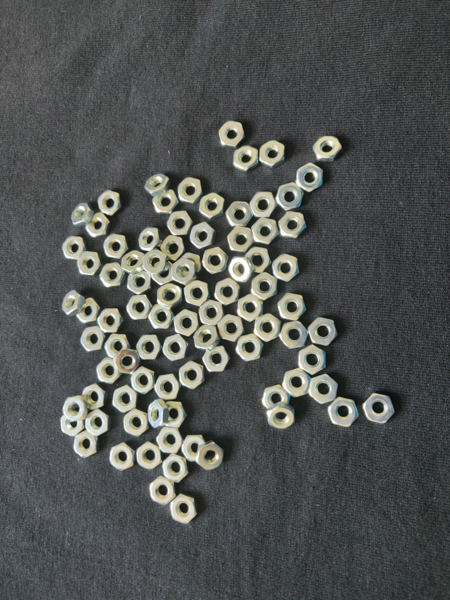nut: (363, 392, 395, 424), (259, 139, 289, 172), (273, 253, 302, 287), (280, 322, 311, 353), (234, 335, 265, 366), (328, 396, 358, 428), (309, 375, 340, 405), (135, 440, 163, 473), (276, 184, 310, 211), (297, 347, 327, 377), (306, 317, 338, 345), (278, 292, 308, 321), (297, 163, 326, 193), (196, 194, 229, 220), (197, 443, 226, 472), (249, 190, 278, 219), (156, 425, 184, 455), (150, 477, 177, 508), (256, 312, 282, 344), (114, 349, 140, 381), (234, 145, 258, 179), (177, 175, 205, 204), (283, 370, 312, 398), (252, 274, 280, 303), (203, 345, 232, 373), (180, 362, 207, 392), (312, 136, 344, 161), (108, 443, 135, 472), (101, 232, 130, 259), (279, 211, 308, 238), (131, 369, 158, 398), (226, 200, 253, 229), (162, 335, 189, 363), (97, 309, 125, 336), (167, 209, 195, 236), (171, 496, 197, 525), (173, 310, 199, 339), (212, 279, 241, 305), (218, 314, 243, 344), (165, 453, 187, 487), (86, 409, 110, 440), (218, 120, 245, 147), (155, 374, 182, 401), (177, 252, 204, 279), (229, 226, 255, 254), (189, 222, 215, 250), (126, 295, 152, 323), (123, 411, 148, 440), (203, 246, 228, 275), (267, 404, 295, 429), (151, 261, 176, 289), (253, 216, 277, 245), (245, 246, 271, 272), (184, 281, 210, 307), (73, 432, 98, 459), (96, 359, 123, 384), (73, 299, 100, 324), (103, 235, 130, 260), (181, 436, 208, 460), (239, 294, 262, 322), (195, 325, 218, 353), (97, 266, 125, 289), (99, 192, 124, 217), (136, 227, 161, 252), (136, 335, 162, 359), (62, 396, 86, 422), (113, 387, 137, 413), (200, 300, 224, 326), (82, 327, 106, 353), (106, 331, 130, 357), (226, 258, 252, 282), (143, 250, 169, 274), (126, 273, 153, 296), (172, 258, 194, 286), (263, 384, 289, 407), (59, 291, 82, 317), (62, 414, 84, 441), (75, 252, 99, 276), (153, 191, 177, 215), (164, 401, 186, 427), (147, 307, 173, 329), (156, 285, 182, 307), (162, 237, 188, 259), (62, 237, 86, 260), (70, 205, 93, 227), (148, 401, 166, 429), (84, 385, 105, 409), (85, 218, 109, 239), (122, 251, 143, 271), (146, 175, 169, 192)
